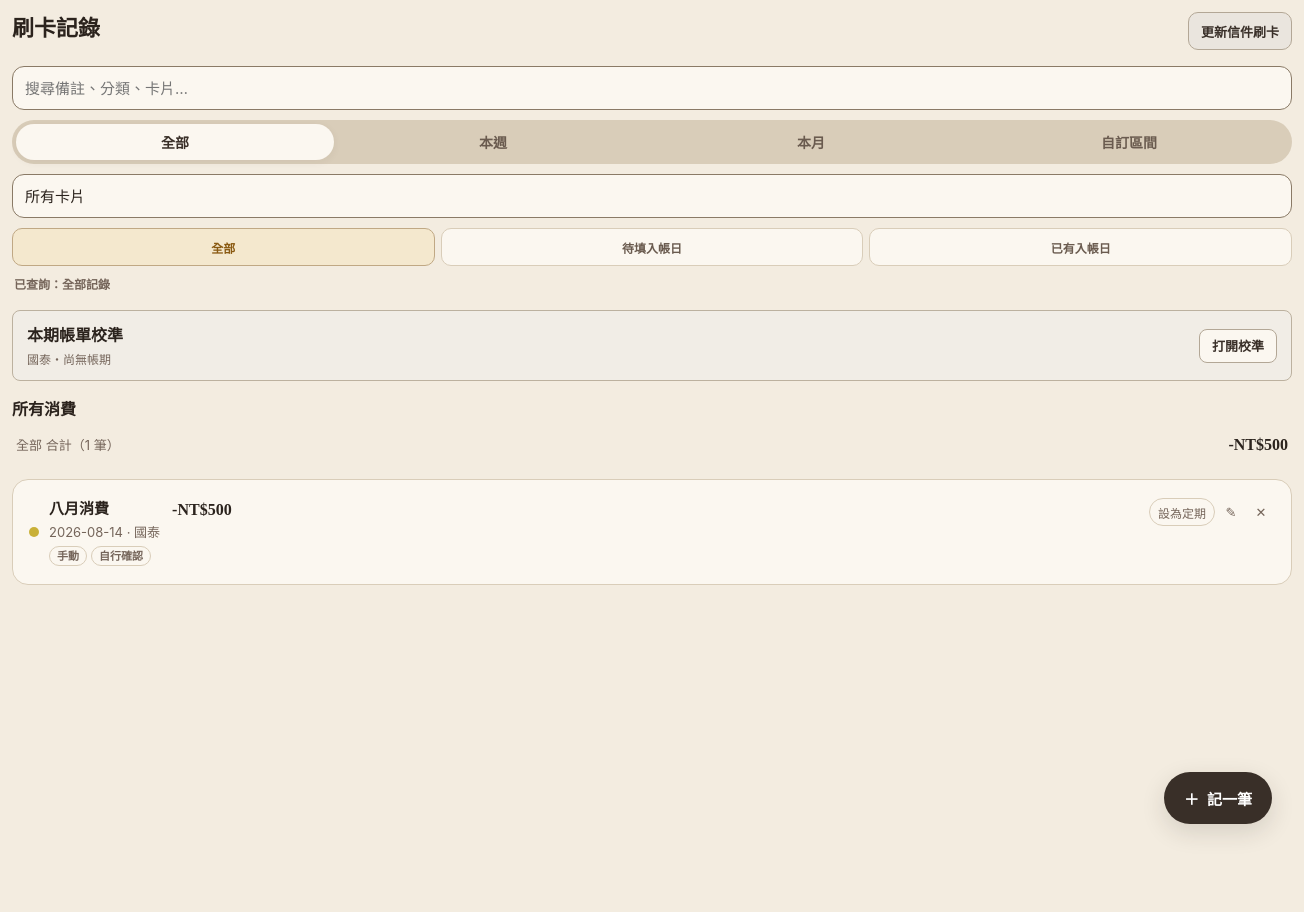
Test: Transactions import entry › shows the applied query period for month and custom range filters
Step 1. Click the button "本月" → (811, 142), box top-left (652, 124), bottom-right (970, 160)
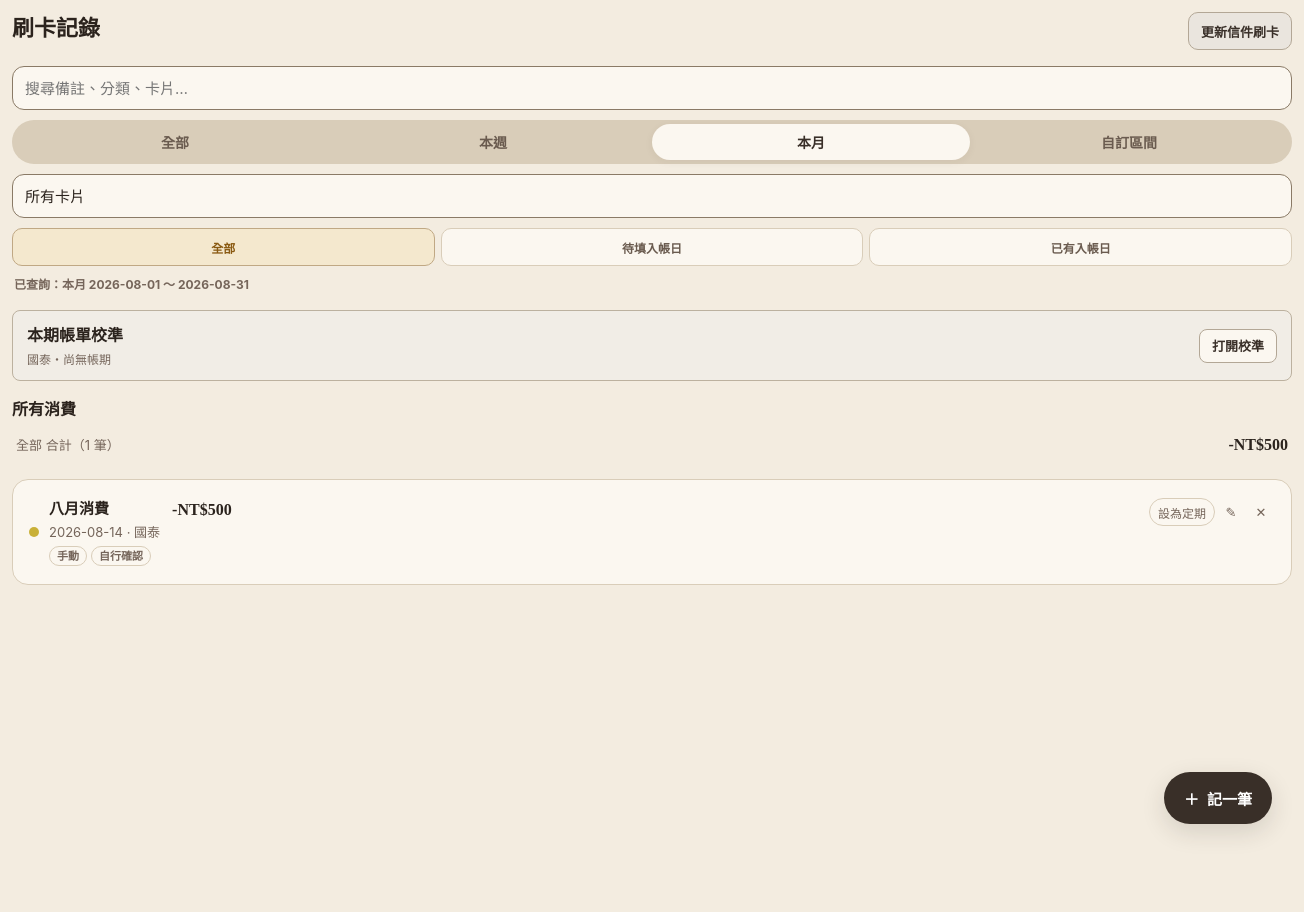
Check: the text "已查詢：本月 2026-08-01 ～ 2026-08-31" is shown, box top-left (14, 277), bottom-right (249, 292)
Step 2. Click the button "自訂區間" → (1129, 142), box top-left (970, 124), bottom-right (1288, 160)
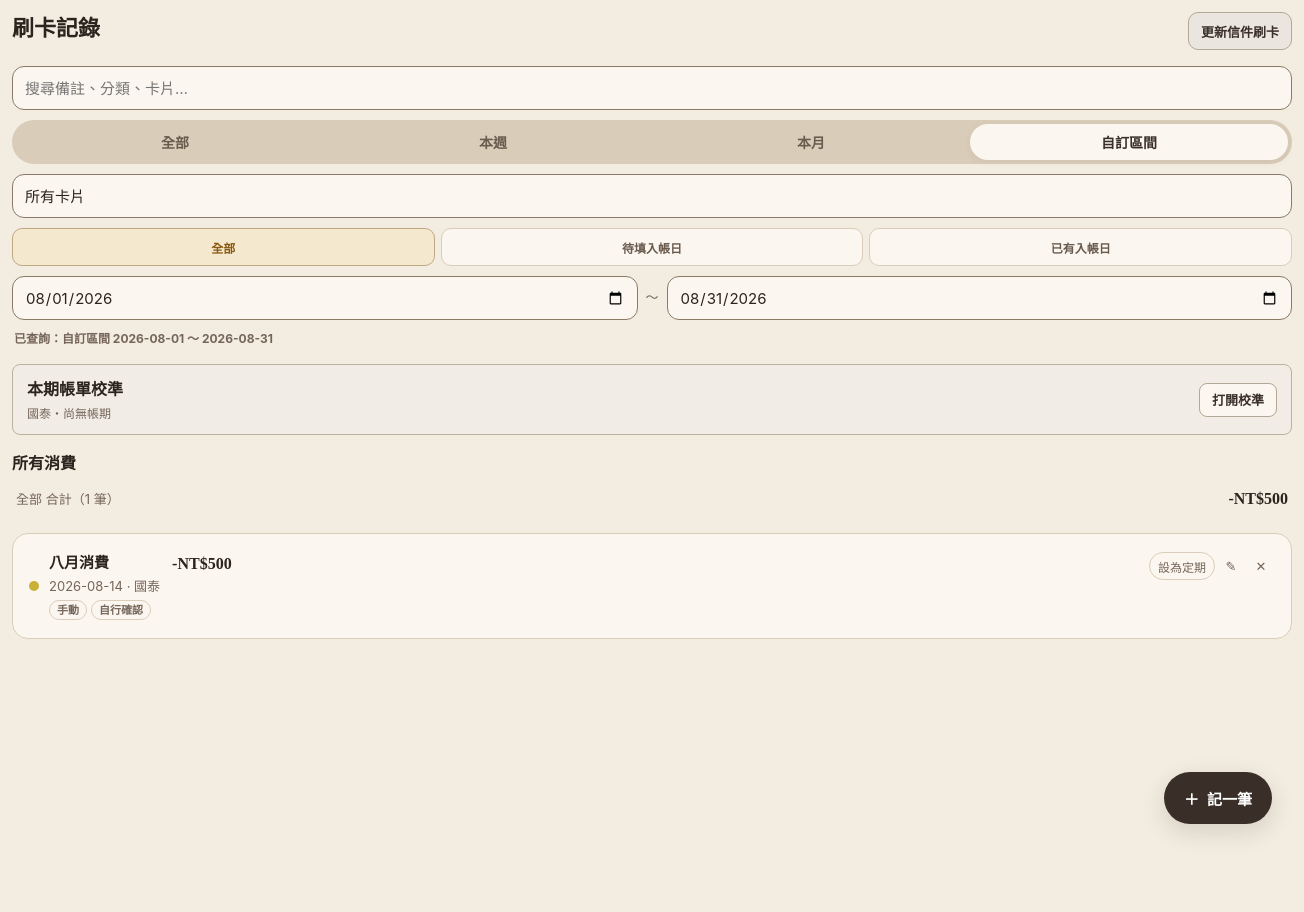
Check: the 1st date field showing "2026-08-01" is shown, box top-left (12, 276), bottom-right (638, 320)
Check: the 2nd date field showing "2026-08-31" is shown, box top-left (666, 276), bottom-right (1292, 320)
Check: the text "已查詢：自訂區間 2026-08-01 ～ 2026-08-31" is shown, box top-left (14, 331), bottom-right (273, 346)
